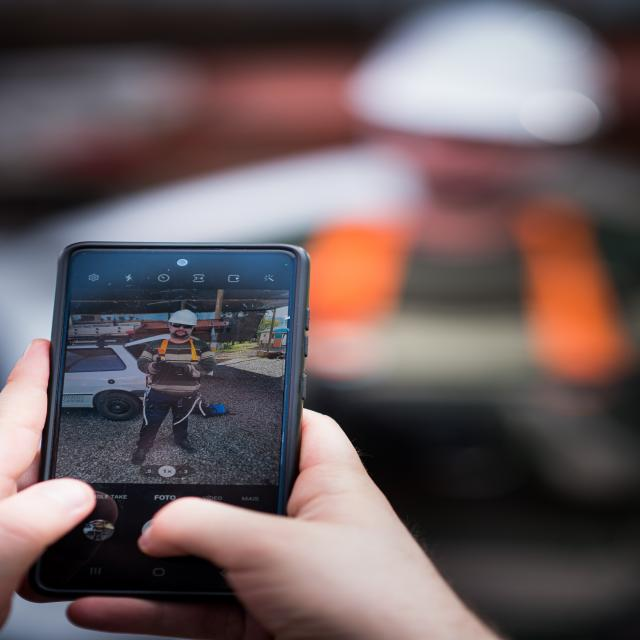botas: (170, 434, 194, 452), (128, 444, 148, 464)
capacete: (166, 307, 200, 325)
corda de vida: (146, 337, 202, 430)
